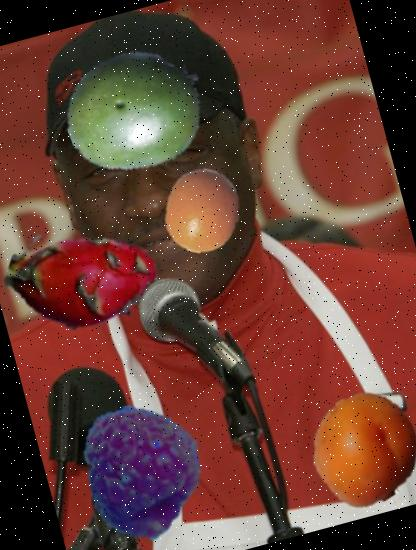Apricot: (299, 382, 416, 515)
Grapefruit: (152, 160, 256, 264)
Mango: (49, 24, 222, 197)
Pitahaya: (0, 190, 170, 369)
Raspberry: (60, 387, 228, 550)
